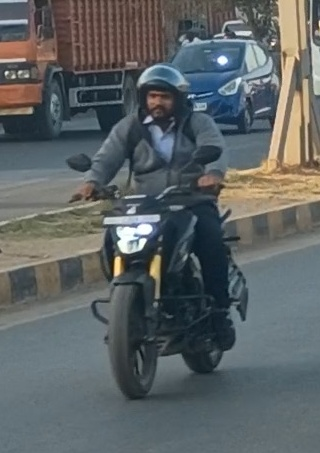BikeWithRider: (58, 58, 255, 404)
Helmet: (129, 59, 196, 127)
